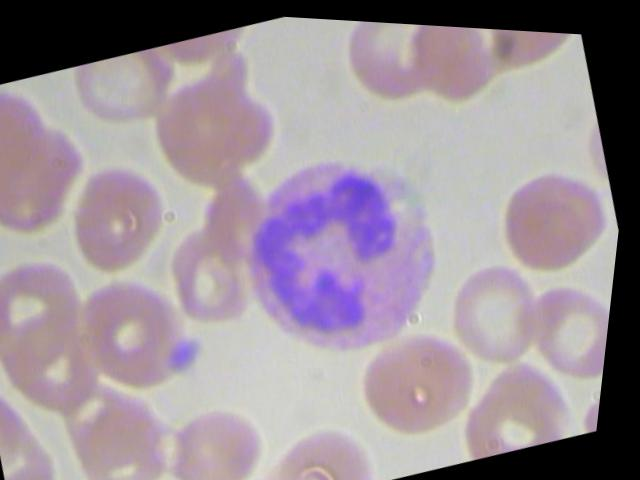Platelets: (169, 324, 222, 380)
Red Blood Cells: (130, 50, 302, 208), (64, 254, 221, 412), (351, 302, 512, 448), (476, 146, 628, 289), (435, 239, 581, 381), (60, 145, 207, 286), (319, 15, 463, 117), (517, 252, 619, 394), (62, 39, 189, 141), (159, 389, 296, 479)
White Blood Cells: (212, 108, 492, 386)
